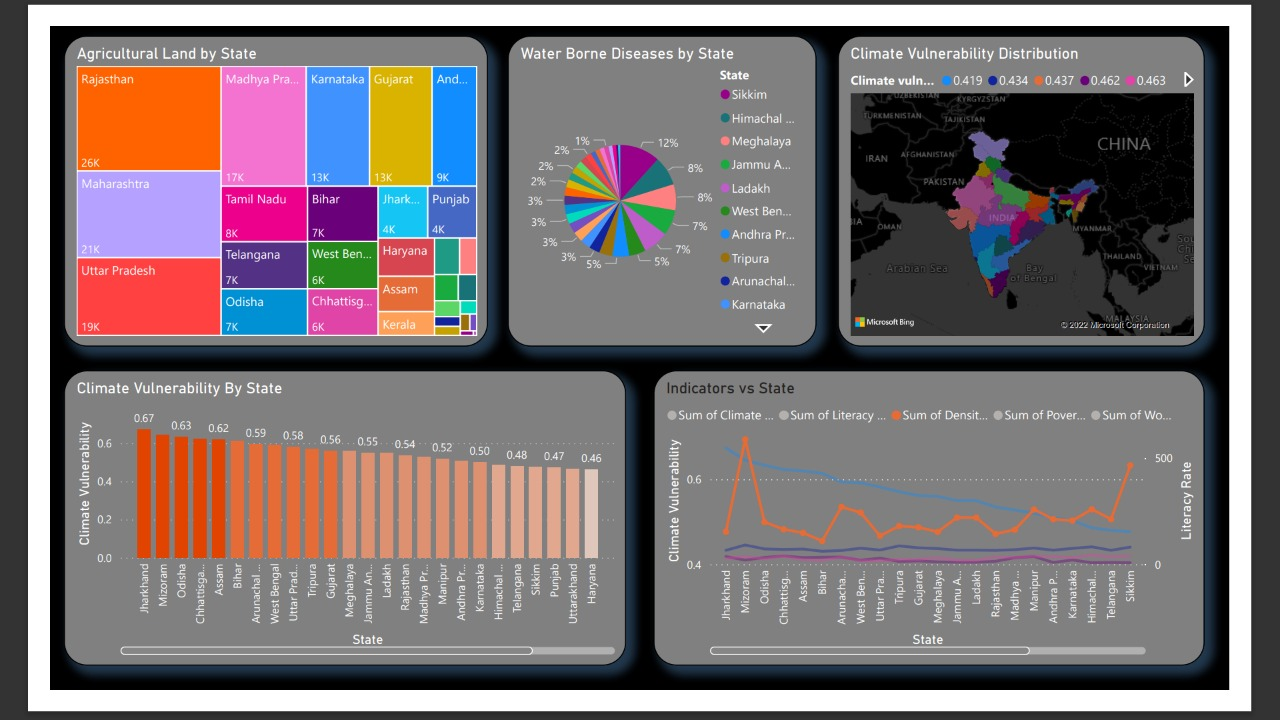

The page's visual inventory and layout, read from the dashboard file:
{"tool":"powerbi","page":{"name":"Page 1","canvas":[1280,720],"ordinal":0},"visuals":[{"type":"clusteredColumnChart","title":"Climate Vulnerability By State","fields":{"Category":["NDAP_REPORT_7159.State"],"Y":["Sum(NDAP_REPORT_7159.Climate vulnerability index)"]},"box":[15.1,373.5,609.7,320],"z":0},{"type":"filledMap","title":"Climate Vulnerability Distribution","fields":{"Category":["NDAP_REPORT_7159.State"],"Series":["NDAP_REPORT_7159.Climate vulnerability index"]},"box":[855.3,10.5,398,337.5],"z":2000},{"type":"lineChart","title":"Indicators vs State","fields":{"Y":["Sum(NDAP_REPORT_7159.Climate vulnerability index)"],"Category":["NDAP_REPORT_7159.State"],"Y2":["Sum(NDAP_REPORT_7159.Literacy rate as per 2011)","Sum(NDAP_REPORT_7159.Density of health care workers per lakh population)","Sum(NDAP_REPORT_7159.Poverty rate as per 2011)","Sum(NDAP_REPORT_7159.Women in the overall workforce (%))"]},"box":[655.1,373.5,598.1,320],"z":3000},{"type":"treemap","title":"Agricultural Land by State","fields":{"Details":["NDAP_REPORT_7159.State"],"Values":["Sum(NDAP_REPORT_7159.Agriculture land area as per 2014-2015 in hectare)"]},"box":[15.1,10.5,459.6,337.5],"z":3001},{"type":"pieChart","title":"Water Borne Diseases  by State","fields":{"Category":["NDAP_REPORT_7159.State"],"Y":["Sum(NDAP_REPORT_7159.Water borne diseases like cholera, typhoid, acute diarrhoea per 1,000 population)"]},"box":[496.9,10.5,335.1,337.5],"z":3002}]}

Visuals, with their boxes in screenshot pixels (x1, y1, x2, y2), scaled from the page's 1280x720 canvas onto the 1280x720 screenshot:
"Climate Vulnerability By State" clusteredColumnChart: [x1=15, y1=374, x2=625, y2=694]
"Climate Vulnerability Distribution" filledMap: [x1=855, y1=10, x2=1253, y2=348]
"Indicators vs State" lineChart: [x1=655, y1=374, x2=1253, y2=694]
"Agricultural Land by State" treemap: [x1=15, y1=10, x2=475, y2=348]
"Water Borne Diseases  by State" pieChart: [x1=497, y1=10, x2=832, y2=348]
